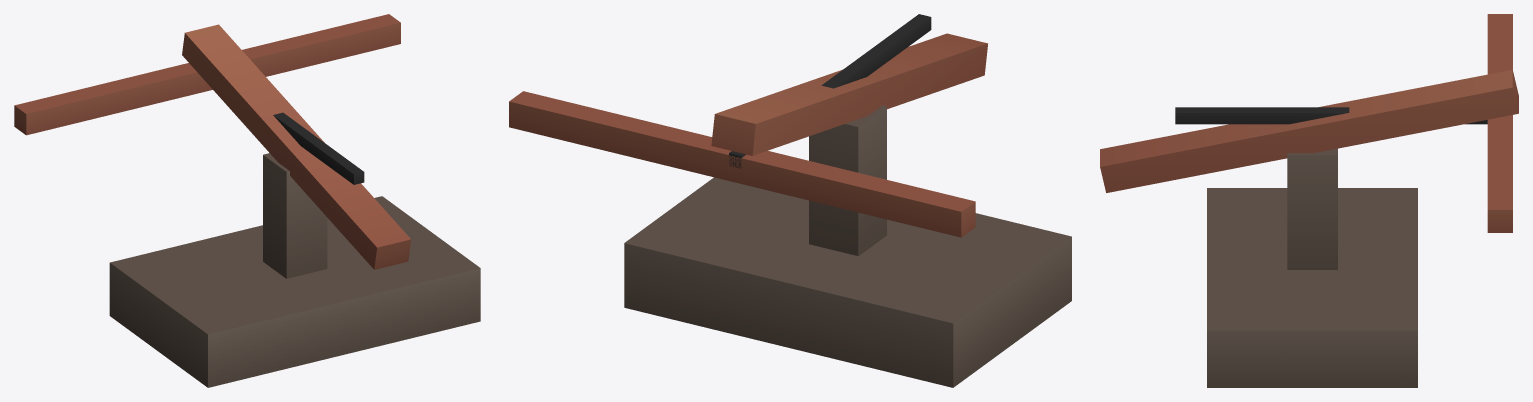
File: ballista.glb
3 renders of one model, left to right at view 1: azimuth 30°, elevation 25°; view 2: azimuth 150°, elevation 25°; view 3: azimuth 270°, elevation 25°, orthographic. The views are drawn at different scales.
Visible parts, largest first — view 1: ballista; view 2: ballista; view 3: ballista.
Boxes of the visible parts, left/top/right/bottom form: ballista: left=14, top=14, right=480, bottom=387; ballista: left=509, top=14, right=1071, bottom=387; ballista: left=1100, top=14, right=1518, bottom=387.
Bounding box in the file's own units: 2.2 × 1.24 × 1.99.
Materials: 1 (1 with a texture image).
